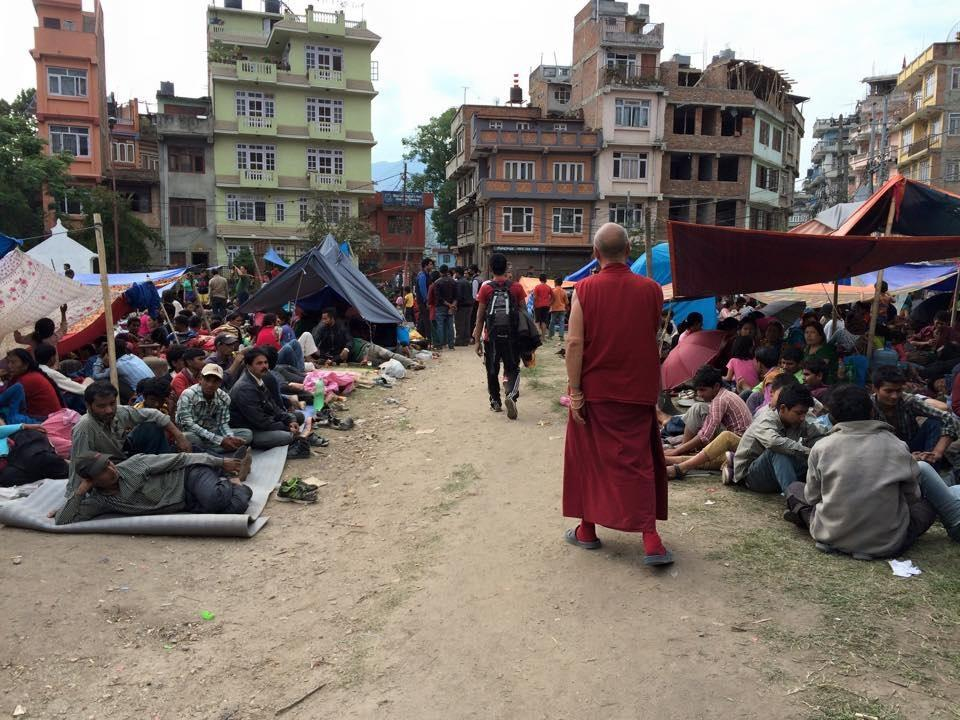affected: (198, 0, 400, 274), (439, 61, 608, 302)
major: (658, 31, 815, 260)
